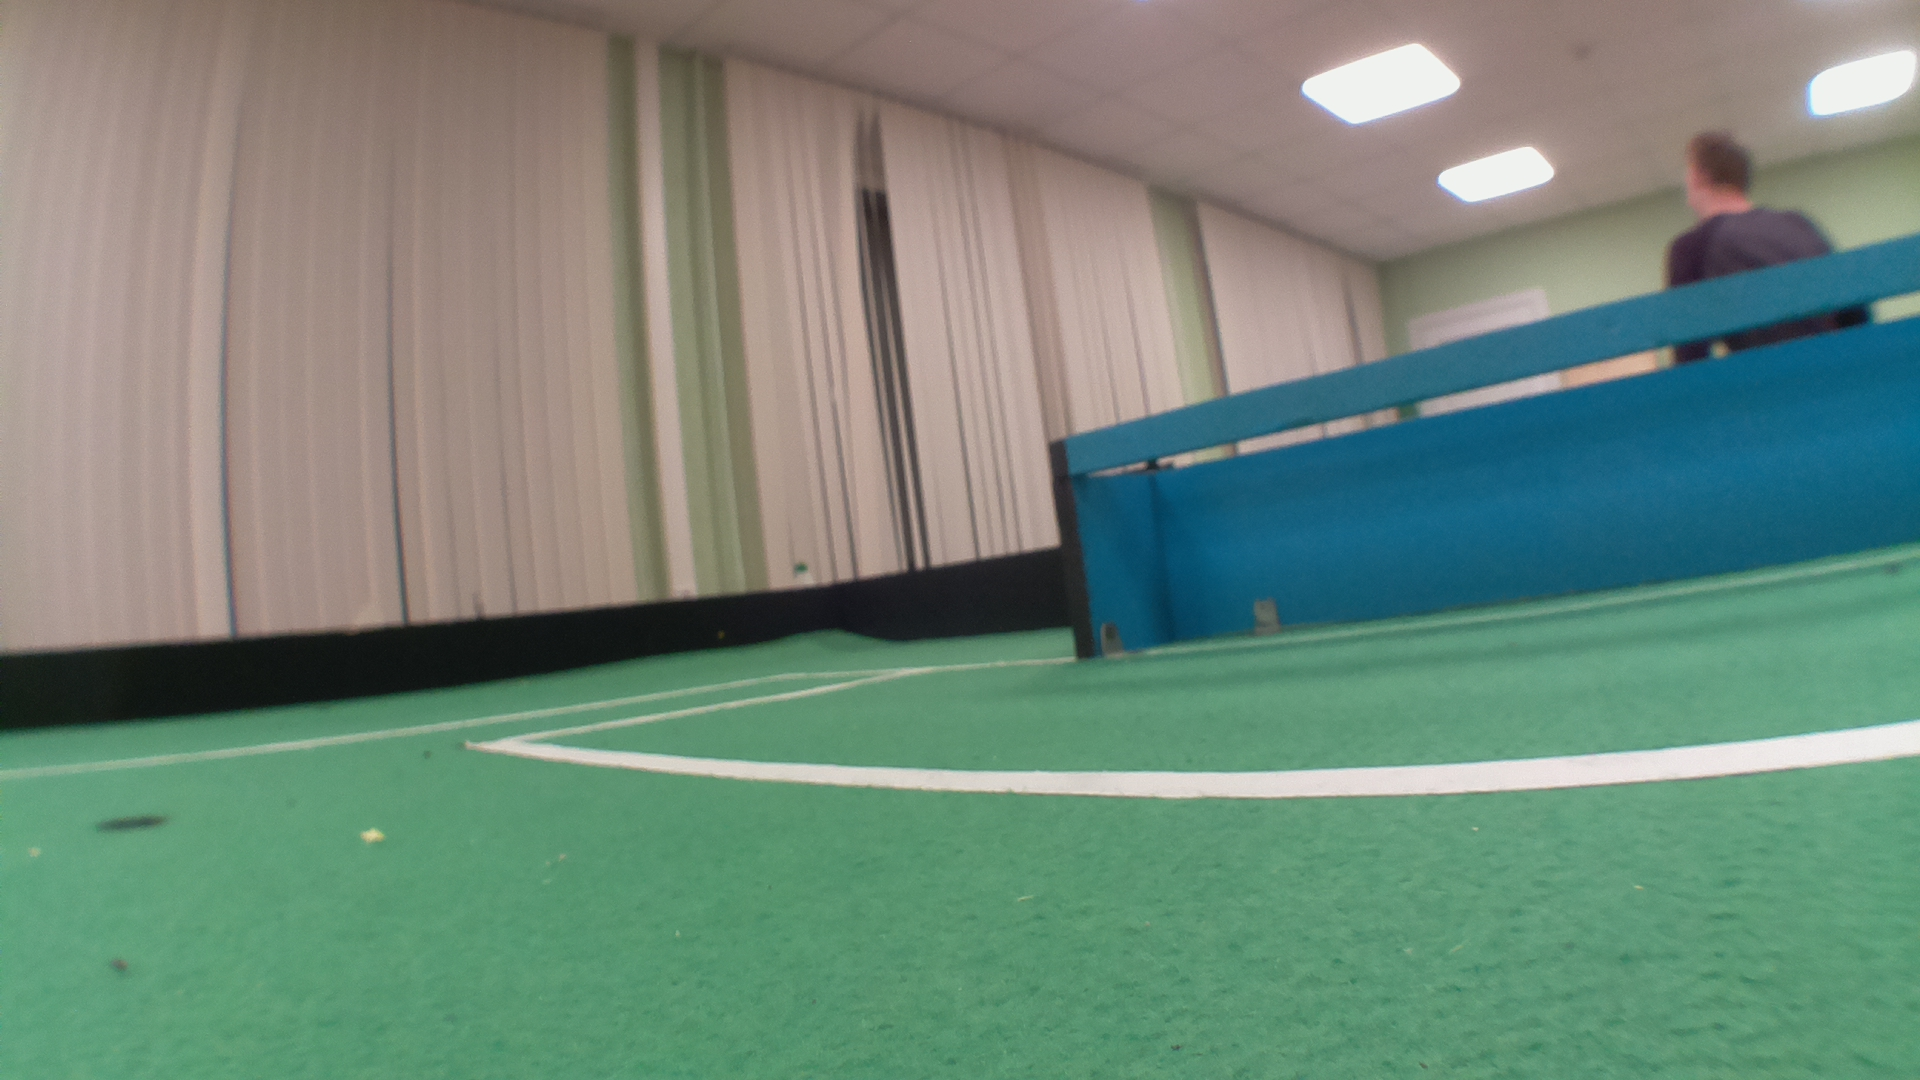BlueGoal: (1083, 229, 1917, 661)
